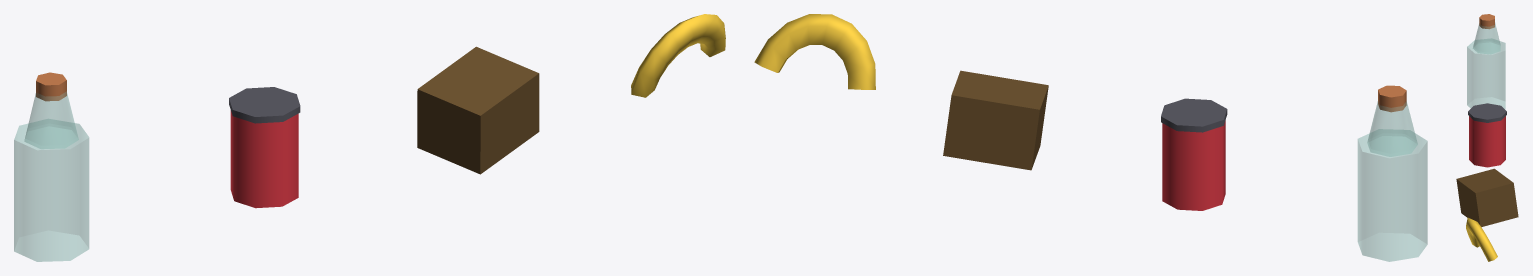
The model's file is trash-kit.glb.
3 renders of one model, left to right at view 1: azimuth 30°, elevation 25°; view 2: azimuth 150°, elevation 25°; view 3: azimuth 270°, elevation 25°, orthographic. The views are drawn at different scales.
Visible parts, largest first — view 1: TrashKit, bottle, can; view 2: TrashKit, bottle, can; view 3: TrashKit, bottle, can.
Boxes of the visible parts, x1=… form: TrashKit: x1=417, y1=14, x2=725, y2=174; bottle: x1=14, y1=72, x2=89, y2=261; can: x1=229, y1=87, x2=300, y2=208; TrashKit: x1=754, y1=14, x2=1048, y2=170; bottle: x1=1357, y1=85, x2=1427, y2=261; can: x1=1161, y1=98, x2=1227, y2=210; TrashKit: x1=1456, y1=168, x2=1518, y2=261; bottle: x1=1467, y1=14, x2=1505, y2=108; can: x1=1468, y1=103, x2=1506, y2=167.
Size of the model in its own units: 4.68 by 1.1 by 0.6726.
